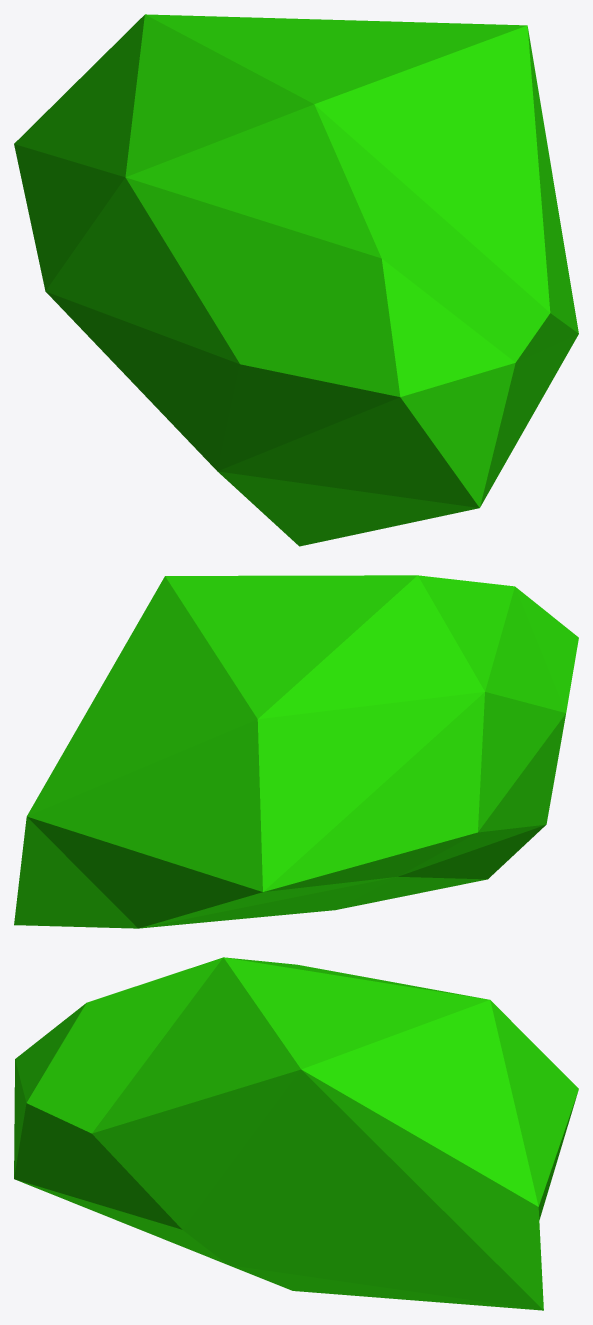
Rendered from Bush#9.fbx.
3 views of the same model, one above another, from view 1: azimuth 30°, elevation 25°; view 2: azimuth 150°, elevation 25°; view 3: azimuth 270°, elevation 25° (orthographic). The views are drawn at different scales.
Visible parts, largest first — view 1: Bush#9; view 2: Bush#9; view 3: Bush#9.
Boxes of the visible parts, <box> form: Bush#9: <box>14,14,578,546</box>; Bush#9: <box>14,575,578,928</box>; Bush#9: <box>14,957,578,1310</box>.
Bounding box in the file's own units: 265 × 222 × 392.
